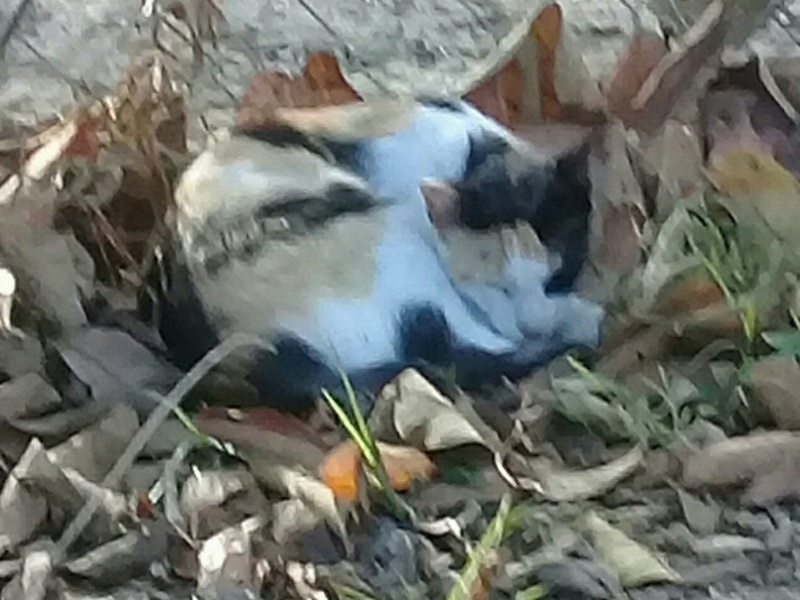cat: (145, 90, 616, 412)
